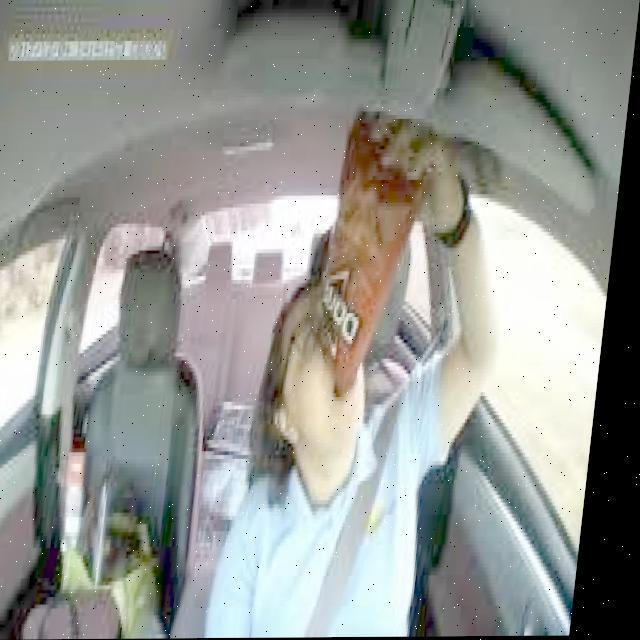seatbelt: (264, 412, 433, 638)
